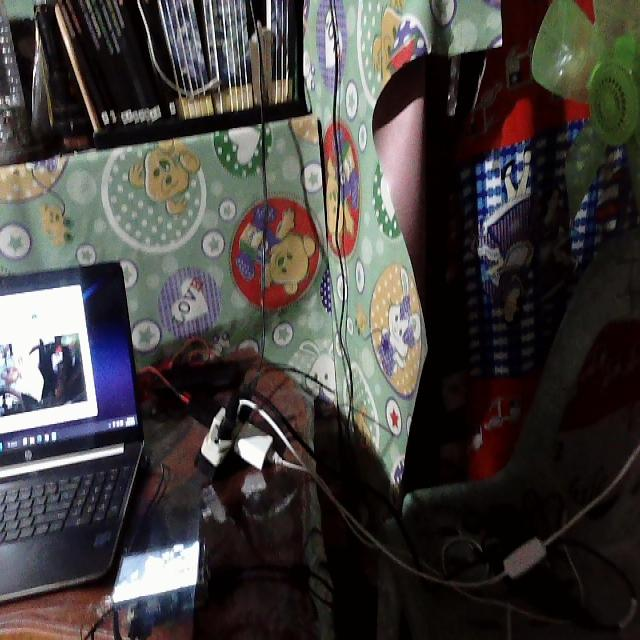-: (181, 369, 295, 487)
